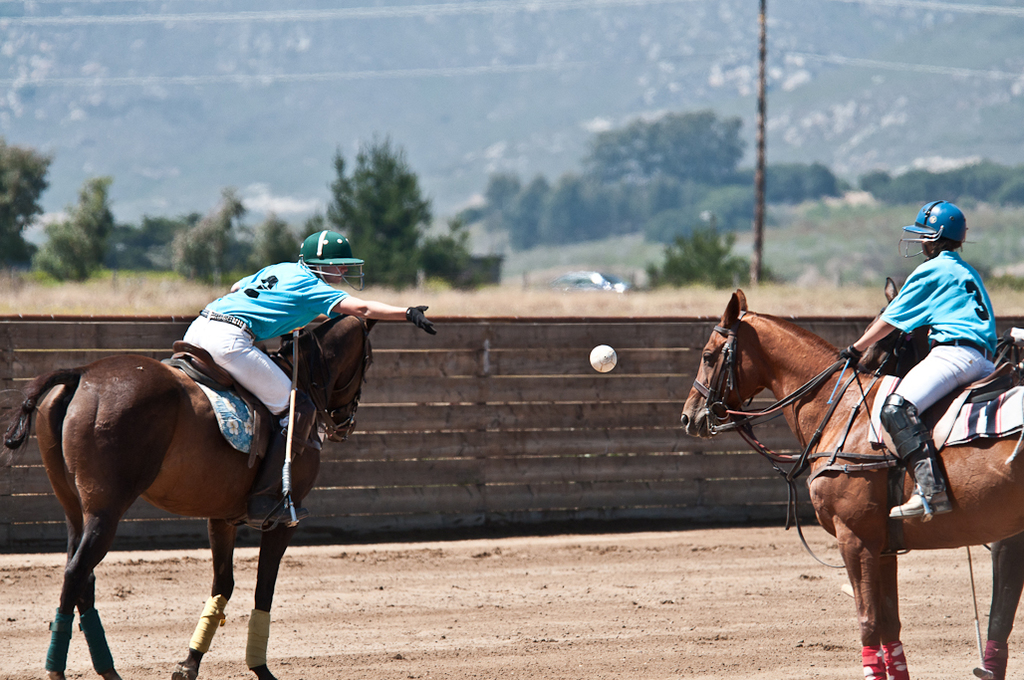horse: (0, 314, 378, 679)
